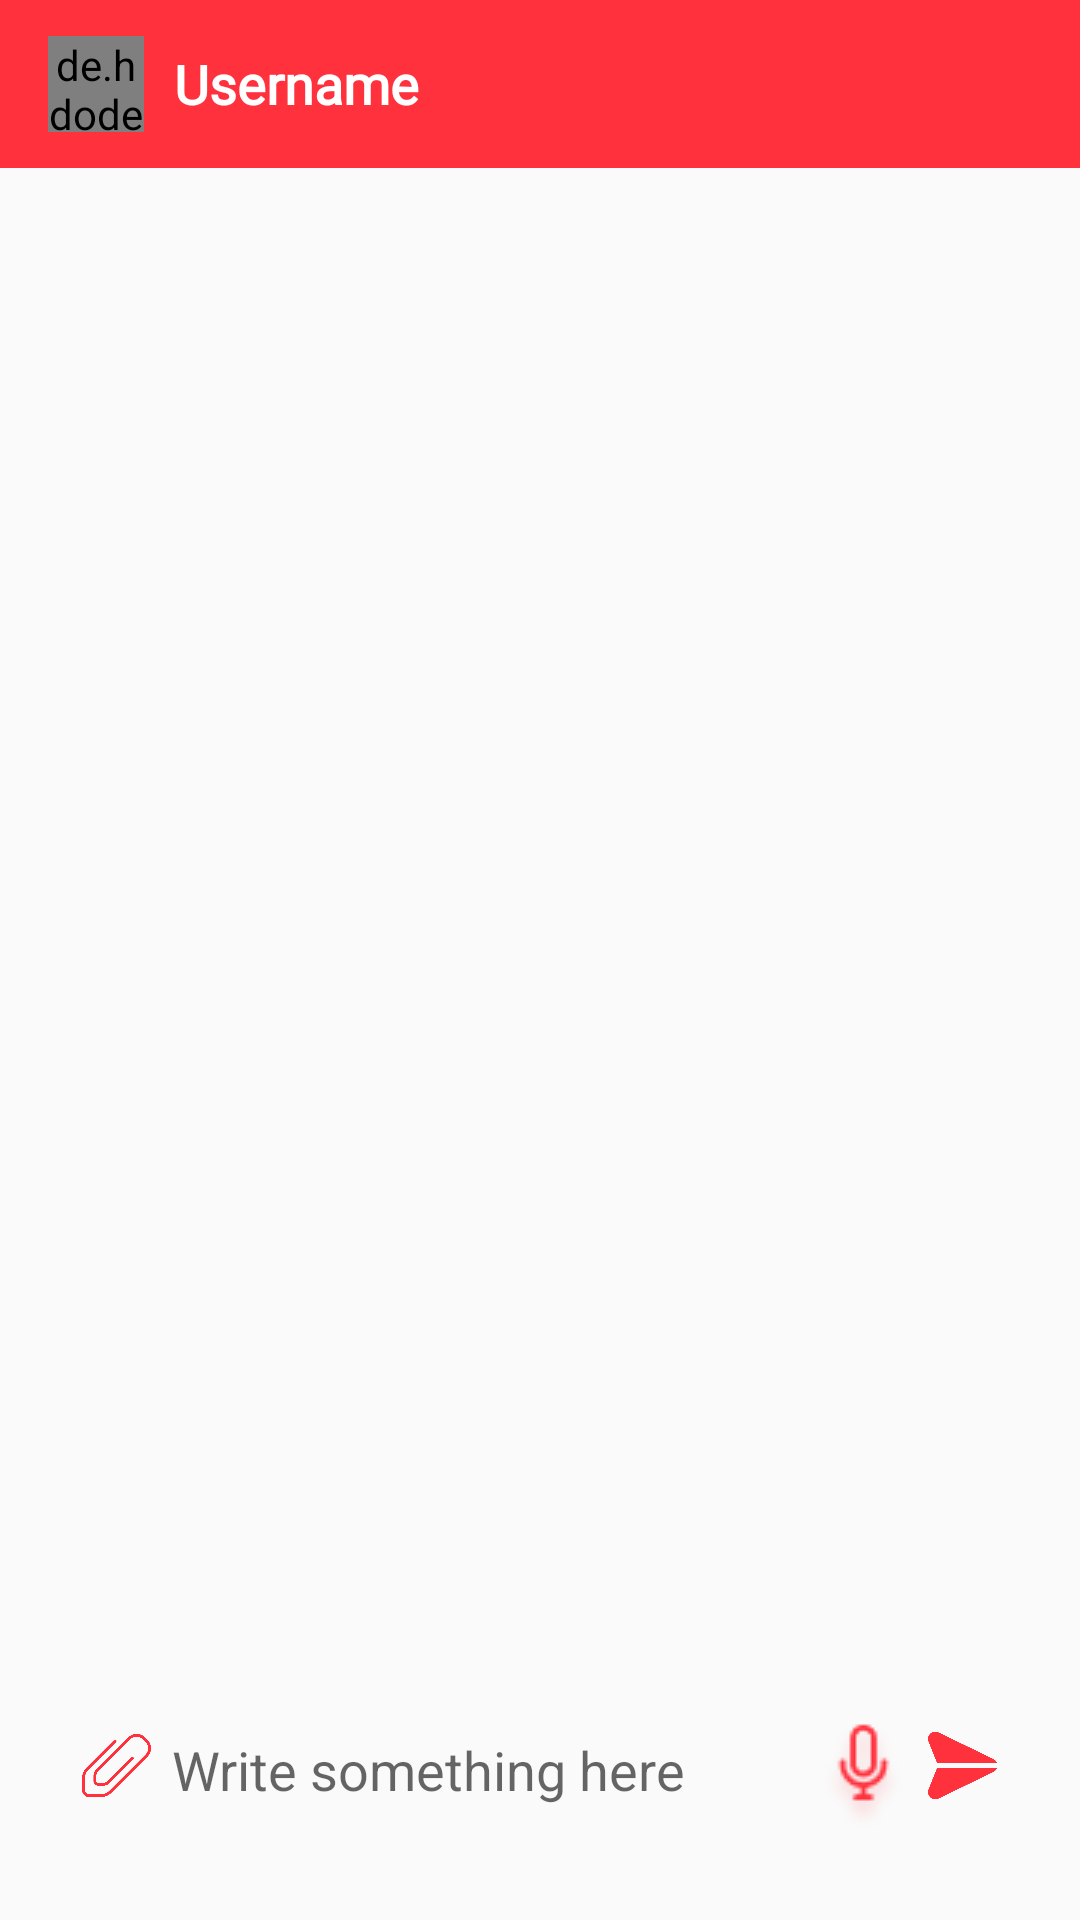

Named icons in this screenshot (1080w x 1920h) and their bounding boxes, (x1,y1,x2,y2):
attachone: (82,1734,151,1797)
mic: (837,1724,890,1801)
send: (928,1732,997,1799)
